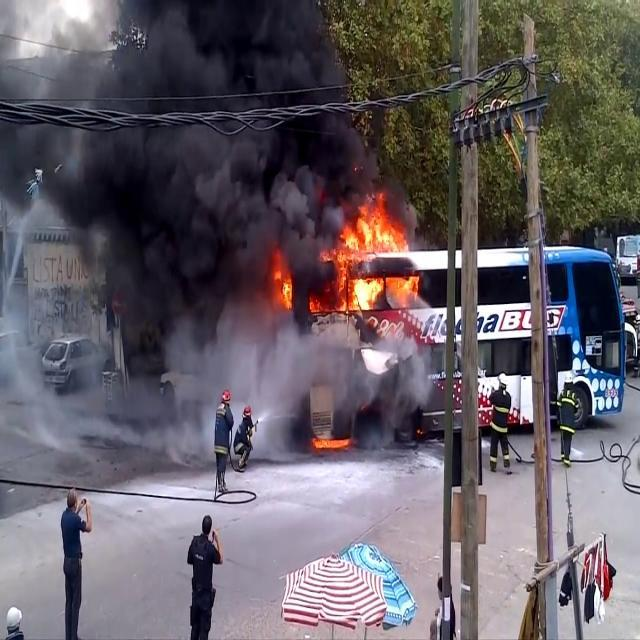Fire: (328, 194, 422, 318), (270, 256, 296, 312)
Smoke: (0, 0, 327, 452)
